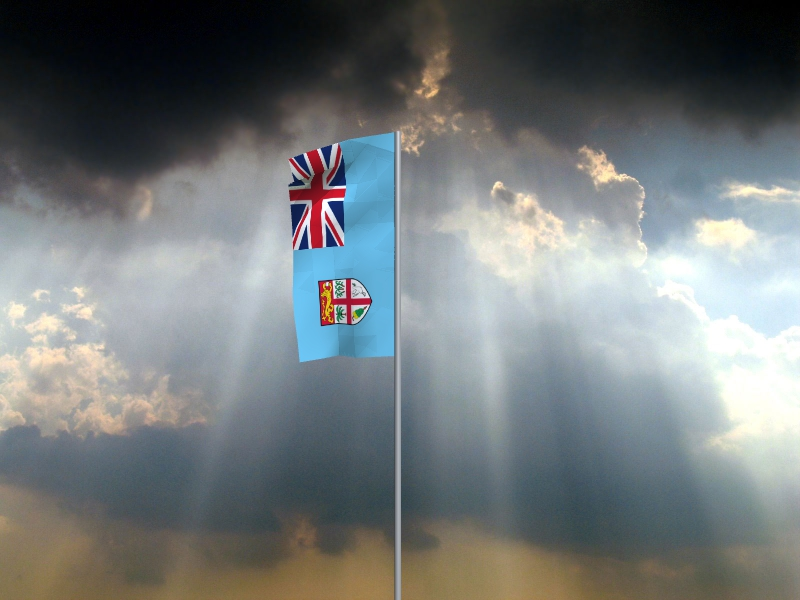fj: (287, 133, 395, 365)
